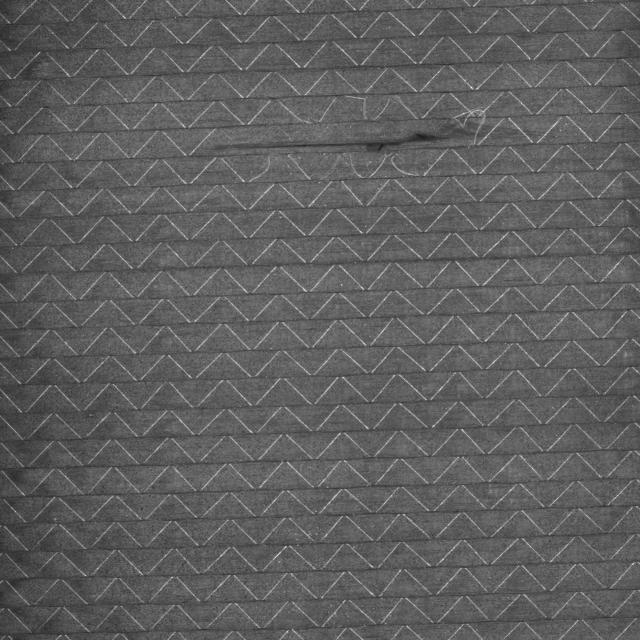carbon-fibre-defect: (215, 108, 490, 158), (242, 150, 426, 189)
